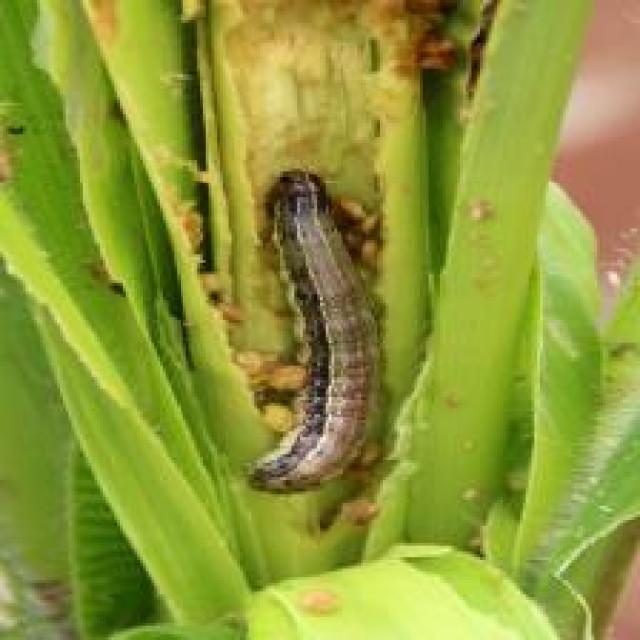Plaga: (228, 161, 397, 512)
